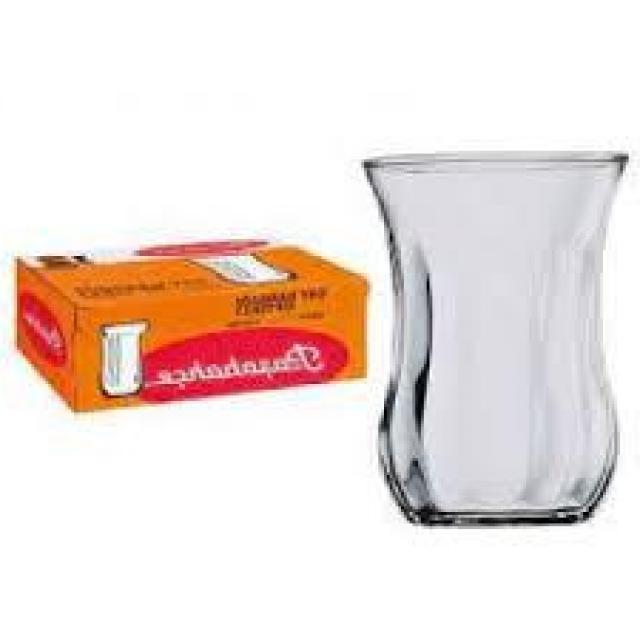glass: (360, 146, 630, 525)
